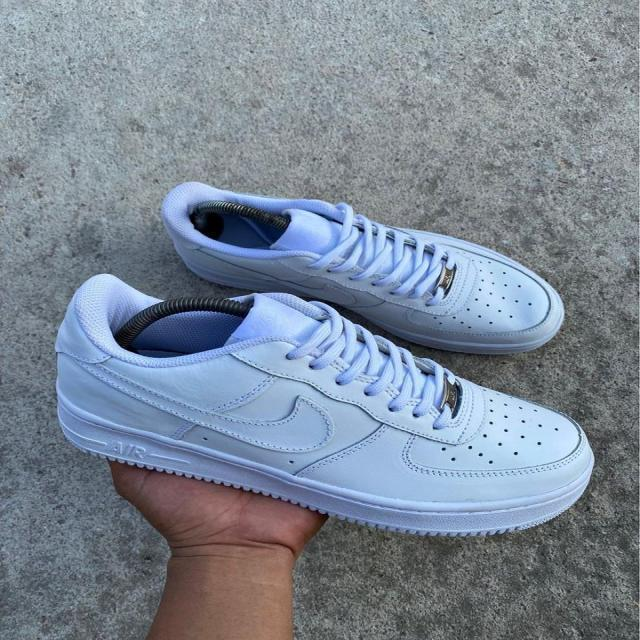nike original air force: (58, 274, 600, 538), (158, 180, 566, 357)
